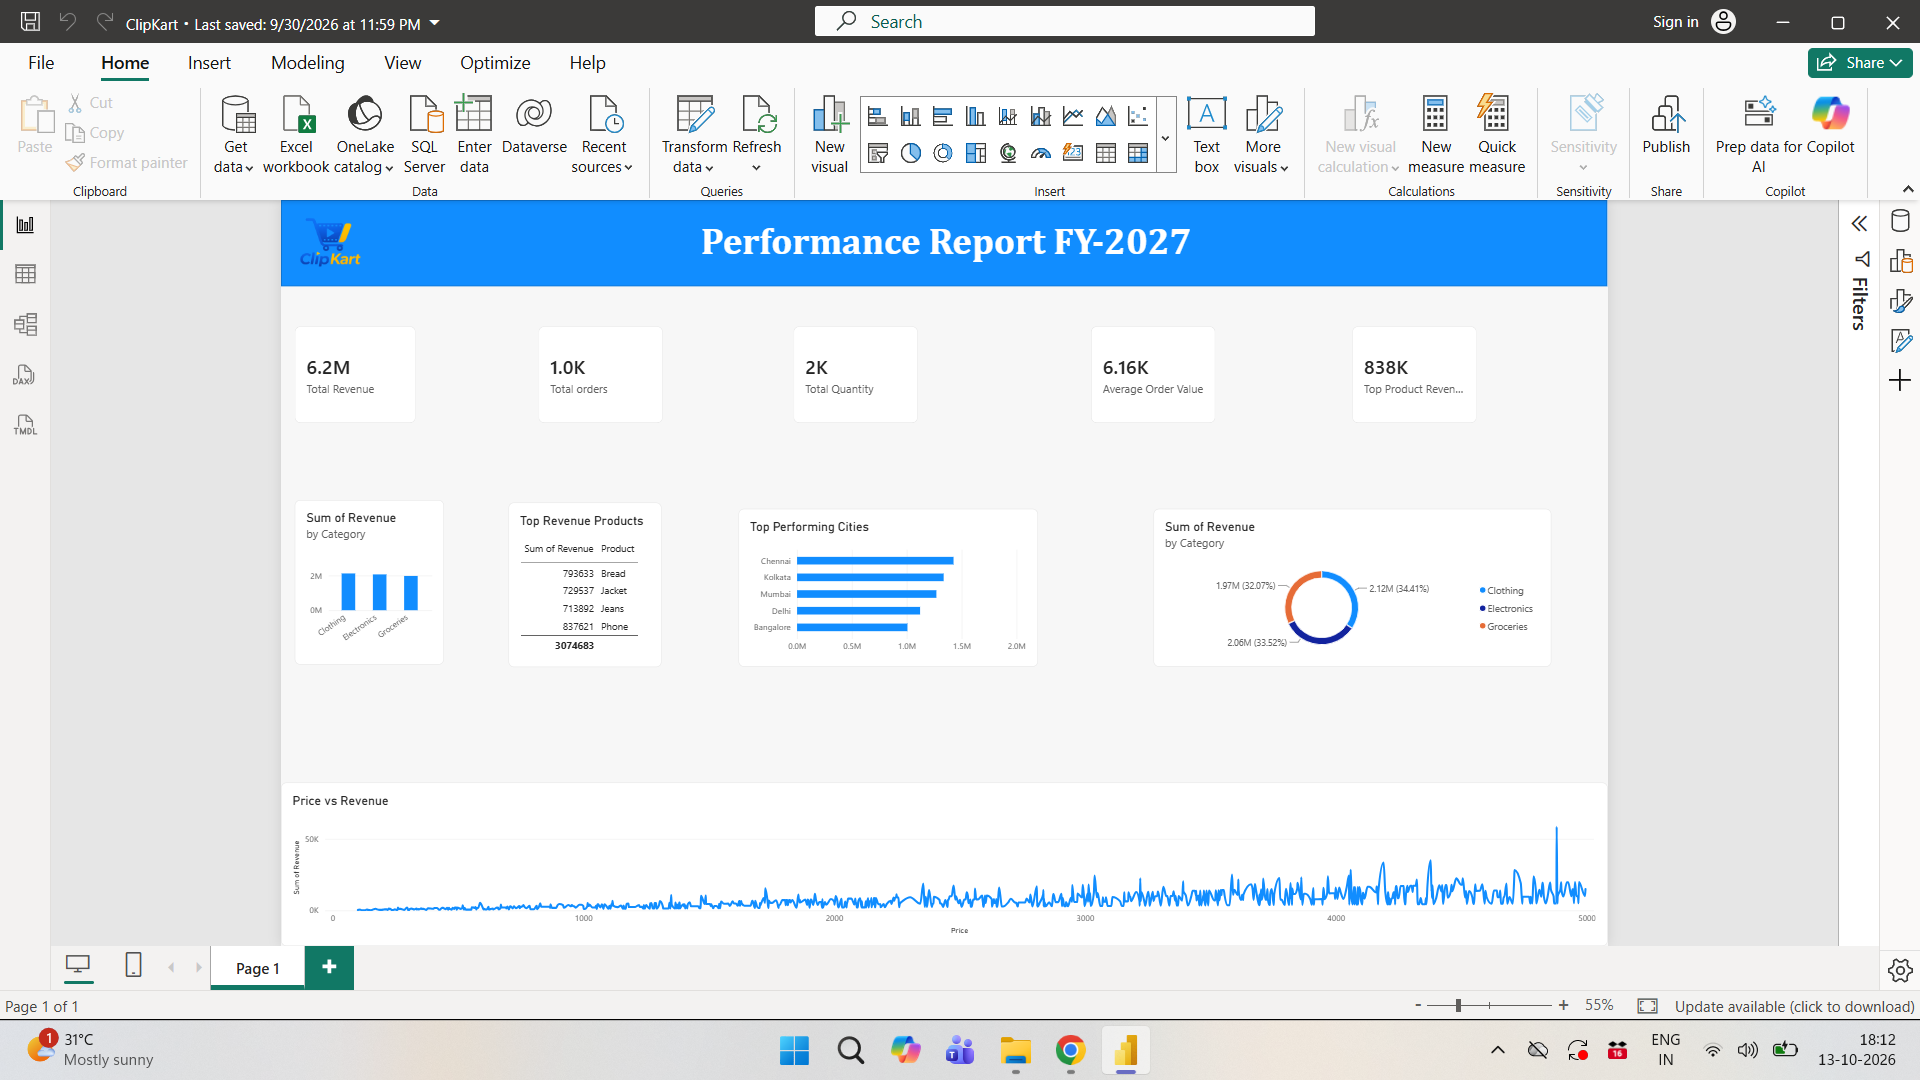

What the dashboard file says about the page in this screenshot:
{"tool":"powerbi","page":{"name":"Page 1","canvas":[1920,1080],"ordinal":0},"visuals":[{"type":"shape","box":[0,0,1920,125],"z":0},{"type":"image","box":[0,1.7,141.7,123.3],"z":1000},{"type":"textbox","box":[607.5,27.5,807.5,77.5],"z":2000},{"type":"cardVisual","fields":{"Data":["Sum(1780981841717-clipkart_ecommerce_data.Revenue)"]},"box":[20,182.5,175,140],"z":3000},{"type":"lineChart","title":"Price vs Revenue","fields":{"Category":["1780981841717-clipkart_ecommerce_data.Price"],"Y":["Sum(1780981841717-clipkart_ecommerce_data.Revenue)"]},"box":[0,842.5,1920.6,236.8],"z":4000},{"type":"columnChart","fields":{"Category":["1780981841717-clipkart_ecommerce_data.Category"],"Y":["Sum(1780981841717-clipkart_ecommerce_data.Revenue)"]},"box":[20,435,216.2,238.8],"z":5000},{"type":"tableEx","title":"Top Revenue Products","fields":{"Values":["Sum(1780981841717-clipkart_ecommerce_data.Revenue)","1780981841717-clipkart_ecommerce_data.Product"]},"box":[330,437.5,221.4,238.6],"z":6000},{"type":"cardVisual","fields":{"Data":["CountNonNull(1780981841717-clipkart_ecommerce_data.Revenue)"]},"box":[372.5,182.5,180,140],"z":7000},{"type":"cardVisual","fields":{"Data":["Sum(1780981841717-clipkart_ecommerce_data.Quantity)"]},"box":[742.5,182.5,180,140],"z":8000},{"type":"clusteredBarChart","title":"Top Performing Cities","fields":{"Category":["1780981841717-clipkart_ecommerce_data.City"],"Y":["Sum(1780981841717-clipkart_ecommerce_data.Revenue)"]},"box":[662.5,447.5,433.8,228.8],"z":9000},{"type":"cardVisual","fields":{"Data":["1780981841717-clipkart_ecommerce_data.Average Order Value"]},"box":[1172.5,182.5,180,140],"z":9001},{"type":"donutChart","fields":{"Category":["1780981841717-clipkart_ecommerce_data.Category"],"Y":["Sum(1780981841717-clipkart_ecommerce_data.Revenue)"]},"box":[1262.5,447.5,576.2,228.8],"z":9002},{"type":"cardVisual","fields":{"Data":["1780981841717-clipkart_ecommerce_data.Top Product Revenue"]},"box":[1550,182.5,180,140],"z":9003}]}

Visuals, with their boxes on the page's 1920x1080 design canvas (x1, y1, x2, y2). These are canvas units, not pixel positions in the 1920x1080 screenshot, which may show the page scaled, cropped or inside an application window:
shape: <box>0,0,1920,125</box>
image: <box>0,2,142,125</box>
textbox: <box>608,28,1415,105</box>
cardVisual - Sum(1780981841717-clipkart_ecommerce_data.Revenue): <box>20,182,195,322</box>
"Price vs Revenue" lineChart: <box>0,842,1921,1079</box>
columnChart - 1780981841717-clipkart_ecommerce_data.Category x Sum(1780981841717-clipkart_ecommerce_data.Revenue): <box>20,435,236,674</box>
"Top Revenue Products" tableEx: <box>330,438,551,676</box>
cardVisual - CountNonNull(1780981841717-clipkart_ecommerce_data.Revenue): <box>372,182,552,322</box>
cardVisual - Sum(1780981841717-clipkart_ecommerce_data.Quantity): <box>742,182,922,322</box>
"Top Performing Cities" clusteredBarChart: <box>662,448,1096,676</box>
cardVisual - 1780981841717-clipkart_ecommerce_data.Average Order Value: <box>1172,182,1352,322</box>
donutChart - 1780981841717-clipkart_ecommerce_data.Category x Sum(1780981841717-clipkart_ecommerce_data.Revenue): <box>1262,448,1839,676</box>
cardVisual - 1780981841717-clipkart_ecommerce_data.Top Product Revenue: <box>1550,182,1730,322</box>
